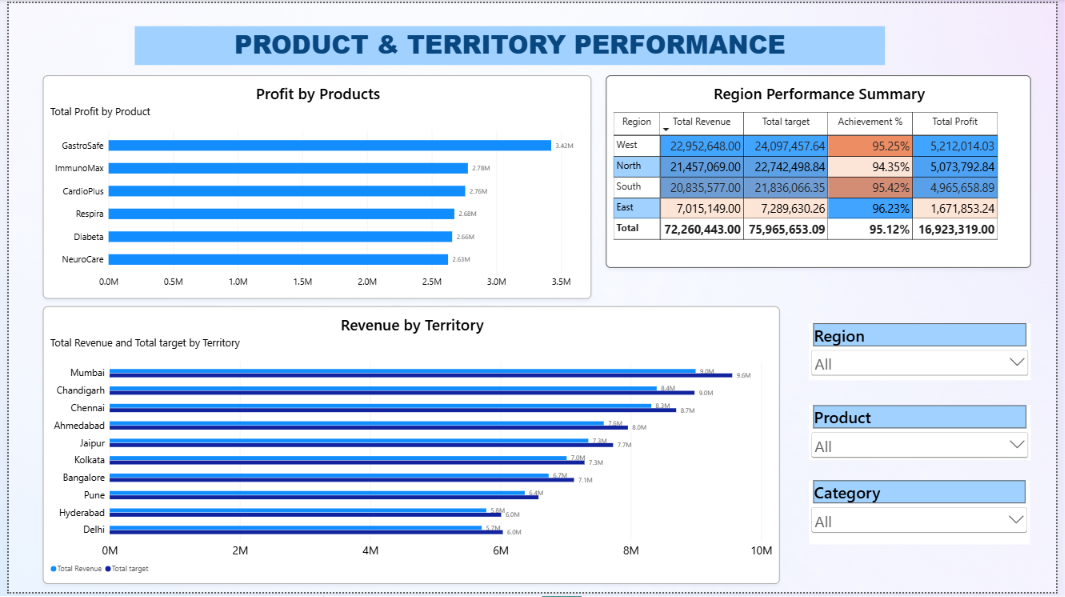

What the dashboard file says about the page in this screenshot:
{"tool":"powerbi","page":{"name":"Product & Territory Performance","canvas":[1920,1080],"ordinal":1},"visuals":[{"type":"textbox","title":"PRODUCT & TERRITORY PERFORMANCE","box":[232,41.9,1376.2,71.5],"z":0},{"type":"clusteredBarChart","title":"Profit by Products","fields":{"Category":["Sales_Data1.Product"],"Y":["Sales_Data1.Total Profit"]},"box":[62.4,132.1,1006,410],"z":1000},{"type":"clusteredBarChart","title":"Revenue by Territory","fields":{"Category":["Sales_Data1.Territory"],"Y":["Sales_Data1.Total Revenue","Sales_Data1.Total target"]},"box":[62.4,555.8,1351.8,509.9],"z":2000},{"type":"pivotTable","title":"Region Performance Summary","fields":{"Rows":["Sales_Data1.Region"],"Values":["Sales_Data1.Total Revenue","Sales_Data1.Total target","Sales_Data1.Achievement %","Sales_Data1.Total Profit"]},"box":[1095,132.1,780,353.3],"z":3000},{"type":"slicer","fields":{"Values":["Sales_Data1.Region"]},"box":[1467.4,587,407.2,104.6],"z":4000},{"type":"slicer","fields":{"Values":["Sales_Data1.Category"]},"box":[1467.4,874.9,405.4,117.4],"z":5000},{"type":"slicer","fields":{"Values":["Sales_Data1.Product"]},"box":[1467.4,737.4,407.2,100.9],"z":6000}]}

Visuals, with their boxes in screenshot pixels (x1, y1, x2, y2), scaled from the page's 1920x1080 canvas onto the 1065x597 screenshot:
"PRODUCT & TERRITORY PERFORMANCE" textbox: l=129, t=23, r=892, b=63
"Profit by Products" clusteredBarChart: l=35, t=73, r=593, b=300
"Revenue by Territory" clusteredBarChart: l=35, t=307, r=784, b=589
"Region Performance Summary" pivotTable: l=607, t=73, r=1040, b=268
slicer - Sales_Data1.Region: l=814, t=324, r=1040, b=382
slicer - Sales_Data1.Category: l=814, t=484, r=1039, b=549
slicer - Sales_Data1.Product: l=814, t=408, r=1040, b=463
